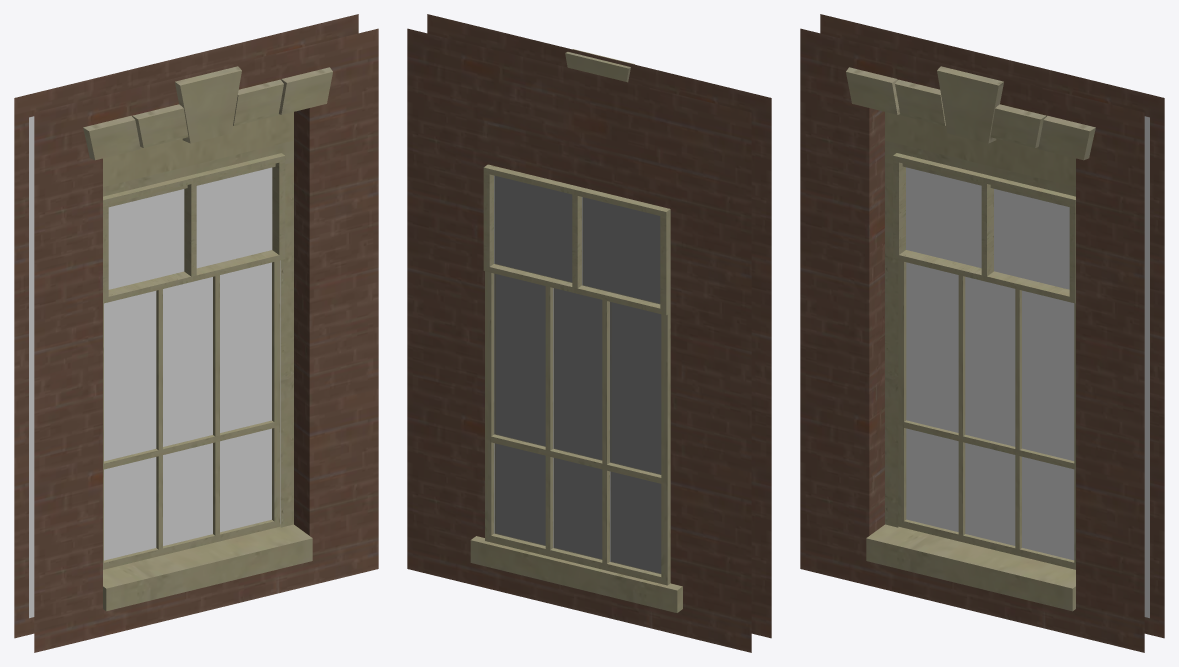
Rendered from Brick_Window_Trim.glb.
3 views of the same model, side by side, from view 1: azimuth 30°, elevation 25°; view 2: azimuth 150°, elevation 25°; view 3: azimuth 330°, elevation 25° (orthographic).
Visible parts, largest first — view 1: Brick_Window_Trim; view 2: Brick_Window_Trim; view 3: Brick_Window_Trim.
Boxes of the visible parts, box(x1,y1,x2,y2) form: Brick_Window_Trim: box(14, 14, 378, 652); Brick_Window_Trim: box(407, 14, 771, 652); Brick_Window_Trim: box(800, 14, 1164, 652).
Bounding box in the file's own units: 2 × 3 × 0.304.
Materials: 4 (2 with a texture image).
